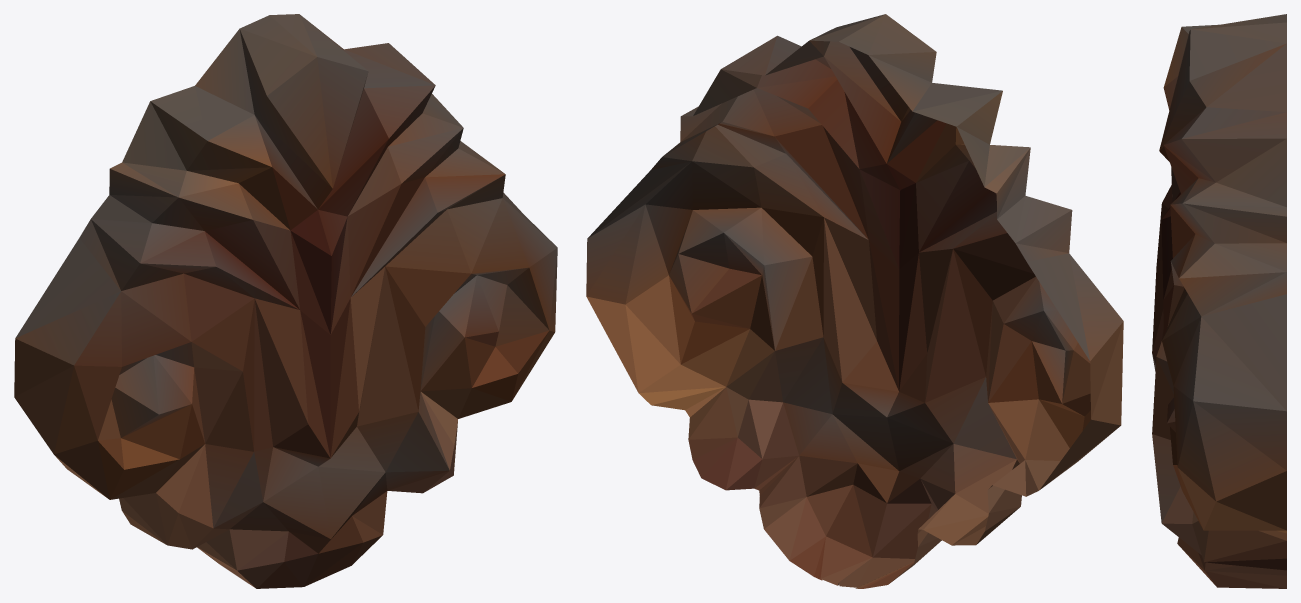
The model's file is Prop_CarvingA.fbx.
3 views of the same model, side by side, from view 1: azimuth 30°, elevation 25°; view 2: azimuth 150°, elevation 25°; view 3: azimuth 270°, elevation 25° (orthographic). The views are drawn at different scales.
Parts seen in each view (by area): view 1: Prop_CarvingA; view 2: Prop_CarvingA; view 3: Prop_CarvingA.
Boxes of the visible parts, left/top/right/bottom form: Prop_CarvingA: left=14, top=14, right=557, bottom=588; Prop_CarvingA: left=586, top=14, right=1123, bottom=588; Prop_CarvingA: left=1152, top=14, right=1286, bottom=588.
Size of the model in its own units: 87.78 by 90.44 by 19.9.
